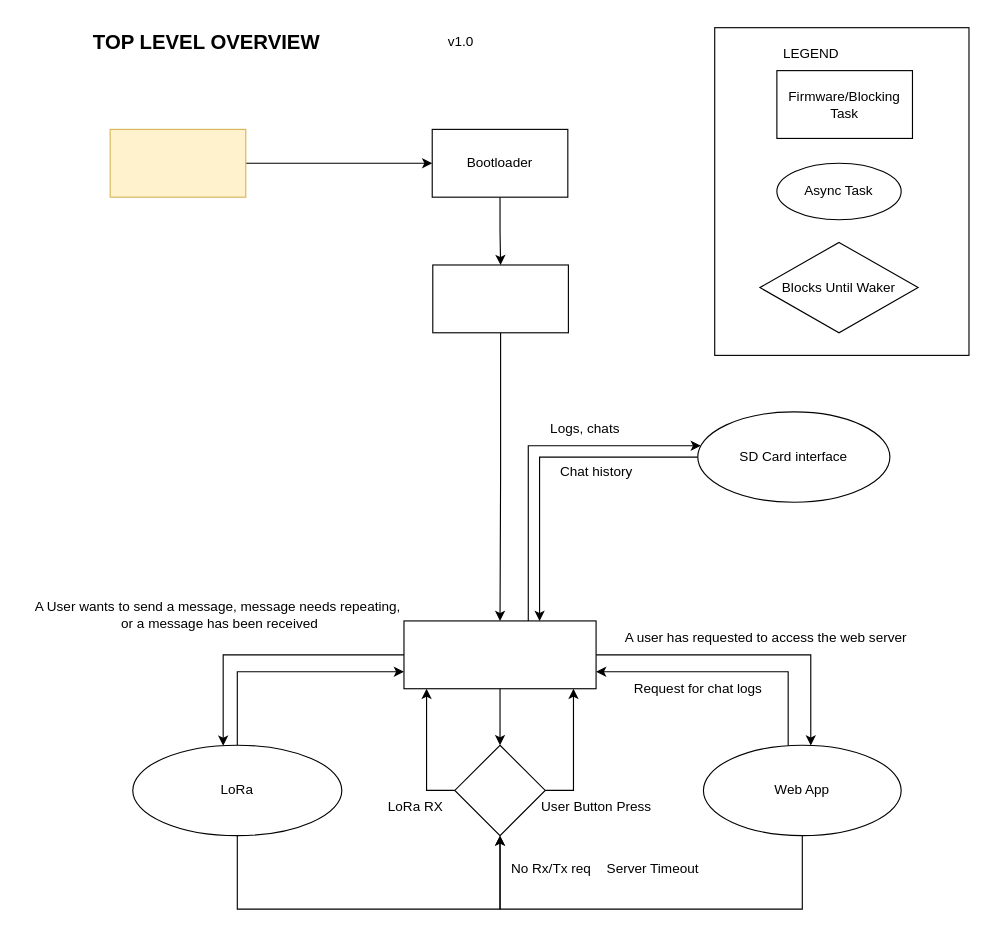
The diagram is 989 pixels wide and 938 high, and some of its shapes have lost their labels. Each missing label, with the centre of its shape:
Init modules: [500,298]
MAIN EXECUTOR: [499,654]
Power ON/Reset: [177,162]
SLEEP: [499,790]
